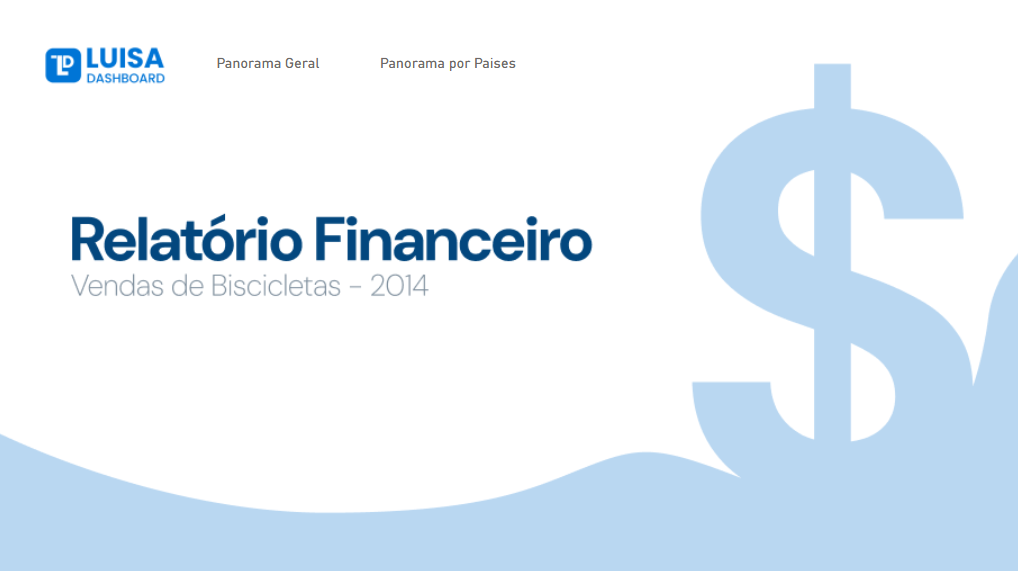

This screenshot's page, from the dashboard's own definition file:
{"tool":"powerbi","page":{"name":"Menu","canvas":[1280,720],"ordinal":0},"visuals":[{"type":"actionButton","box":[241.7,60.4,192.5,39.9],"z":0},{"type":"actionButton","box":[447.7,60.4,230.1,39.9],"z":1000}]}

Visuals, with their boxes in screenshot pixels (x1, y1, x2, y2), scaled from the page's 1280x720 canvas onto the 1018x571 screenshot:
actionButton: box=[192, 48, 345, 80]
actionButton: box=[356, 48, 539, 80]
